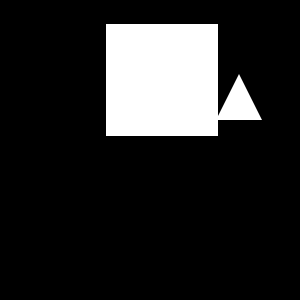circle: (106, 24, 218, 136)
triangle: (216, 74, 262, 120)
